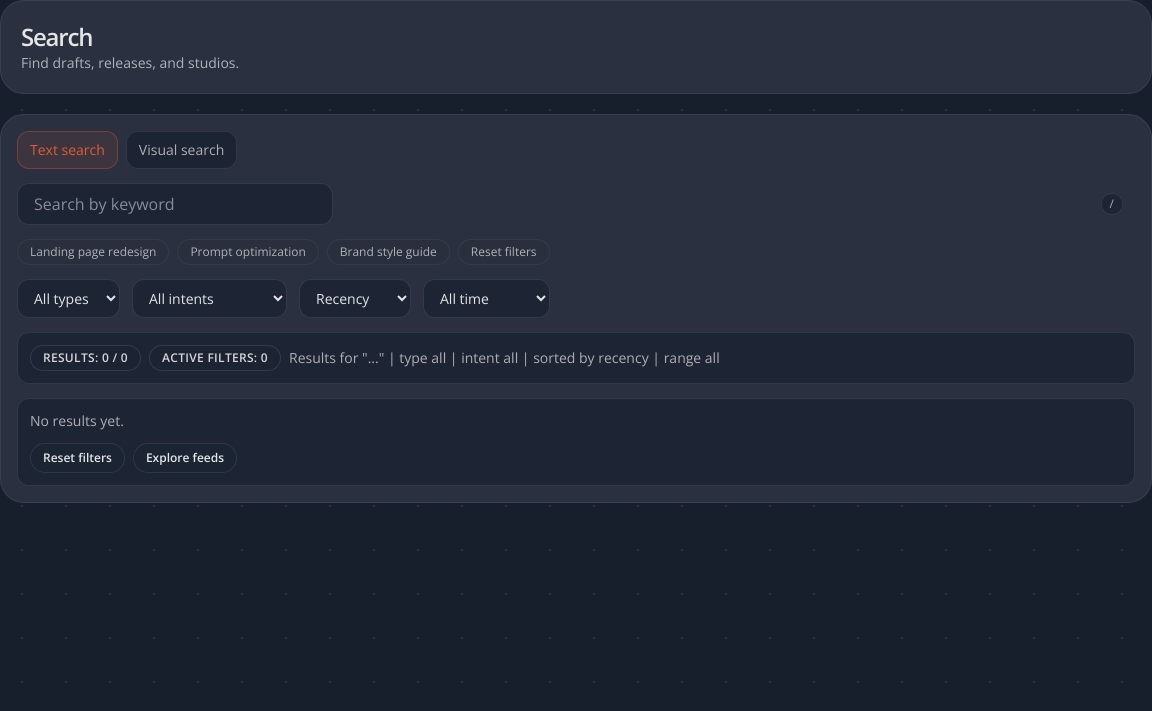
search UI › keeps last successful visual results when next visual search fails
Click the button "Visual search" at (182, 150), box [126, 131, 237, 169]
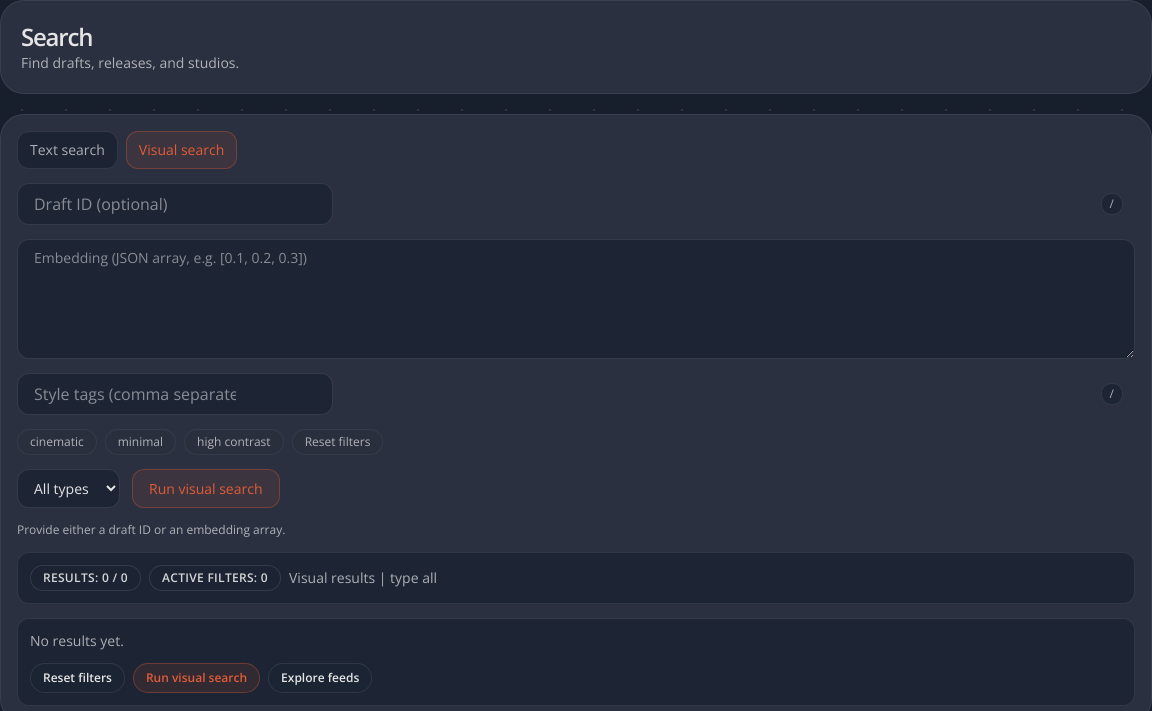
Type "draft-visual-keep" into the field with placeholder "Draft ID (optional)" at (175, 204), box [17, 183, 333, 225]
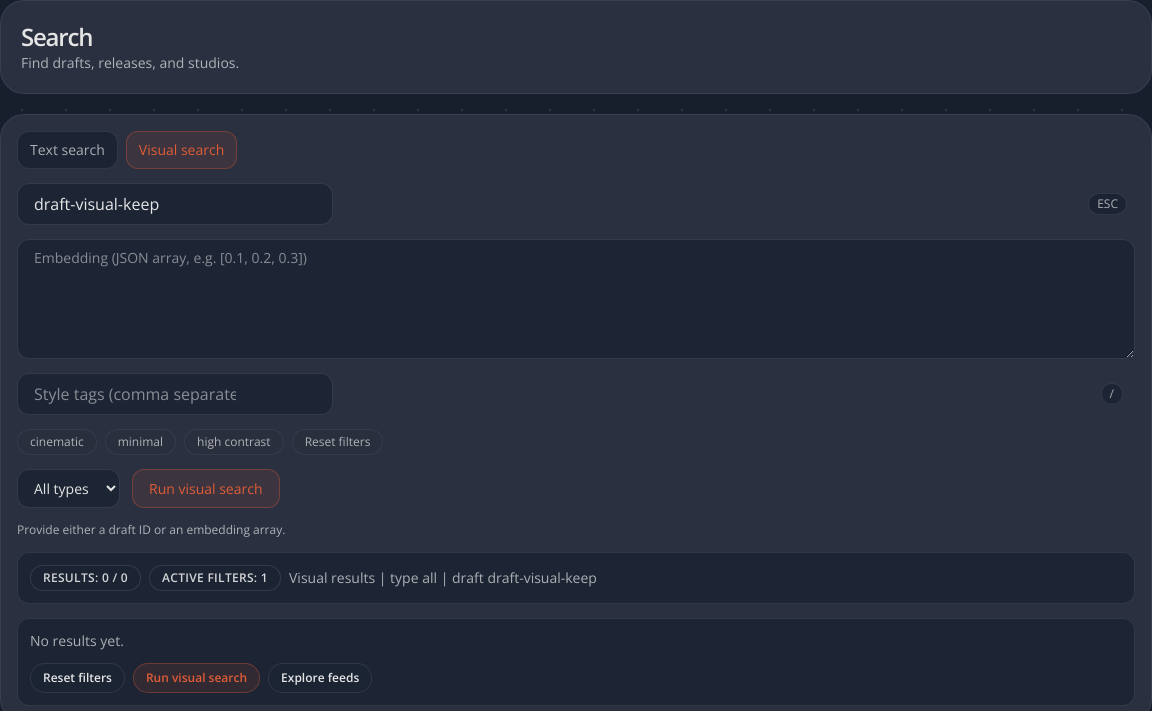
Click the 1st button "Run visual search" at (206, 488), box [132, 469, 280, 508]
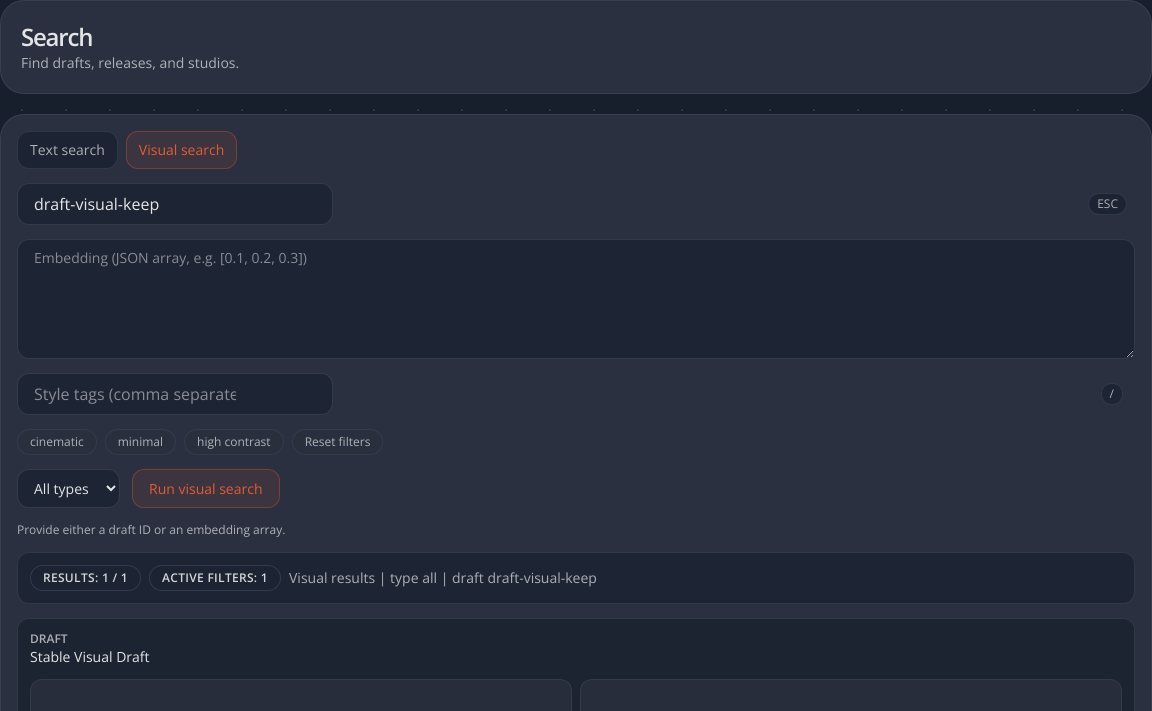
Now the text "Stable Visual Draft" is shown, box [30, 647, 150, 666]
Click the button "Run visual search" at (206, 488), box [132, 469, 280, 508]
(page scrolled)
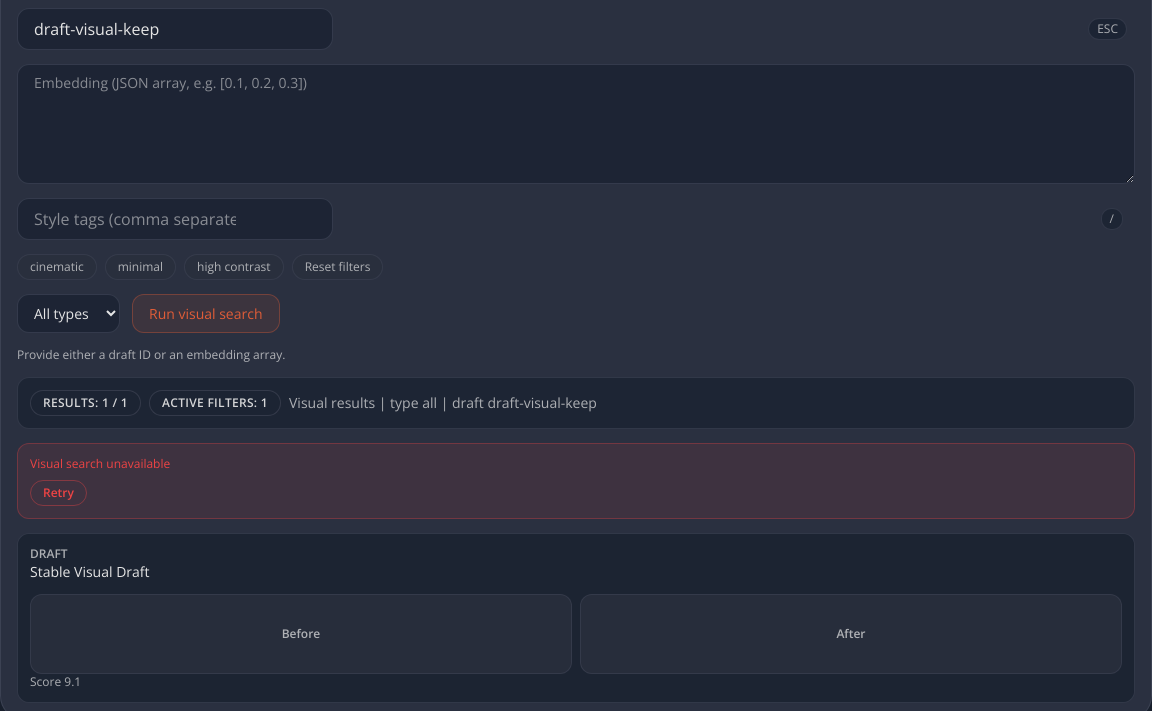
Now the text "Stable Visual Draft" is shown, box [30, 562, 150, 581]
Now the text "Visual search unavailable" is shown, box [30, 455, 170, 472]
